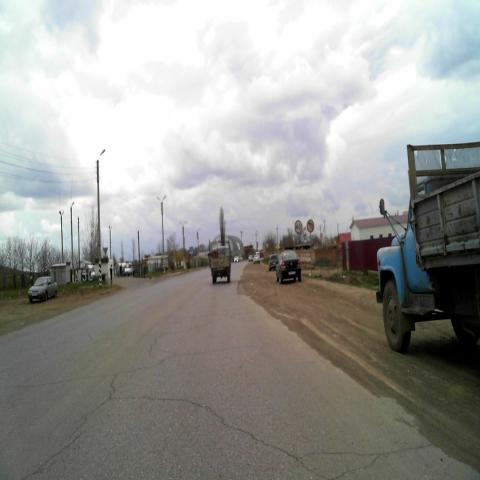3_18_2: (306, 220, 314, 234)
